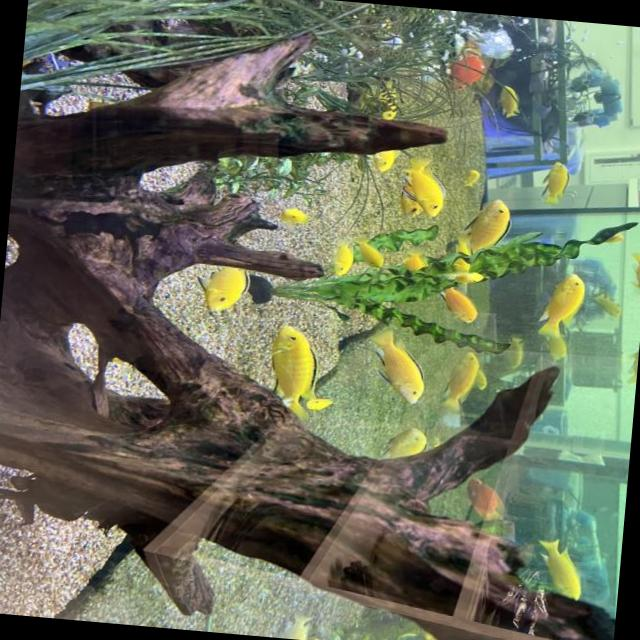YellowCichlid: (355, 327, 432, 405), (520, 264, 598, 340), (182, 262, 254, 316), (538, 530, 586, 599), (272, 322, 310, 399), (464, 192, 518, 245), (434, 346, 480, 407), (375, 421, 430, 462), (540, 159, 576, 208), (413, 160, 443, 218), (437, 286, 479, 324), (489, 77, 520, 126), (454, 161, 496, 194), (588, 286, 622, 326), (495, 338, 527, 379), (325, 236, 356, 275), (615, 344, 639, 392), (304, 386, 342, 416), (359, 148, 398, 176), (540, 336, 576, 364), (623, 247, 640, 302), (446, 246, 476, 277), (378, 81, 398, 122), (358, 239, 383, 271), (276, 206, 313, 226), (402, 251, 426, 274), (455, 272, 486, 286), (399, 198, 414, 214), (478, 376, 491, 394)
